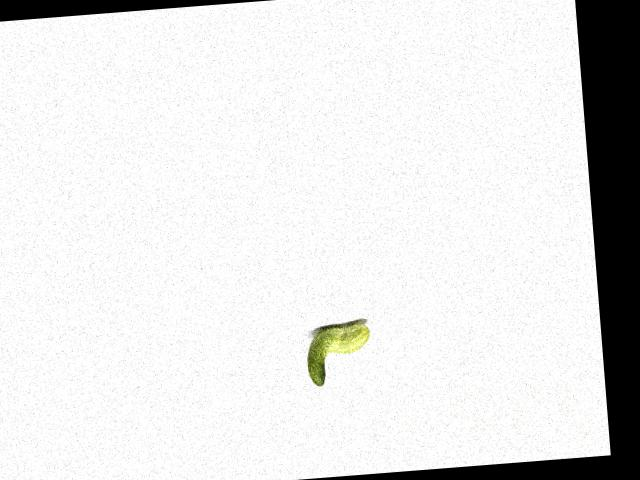cucumber: (303, 321, 373, 386)
